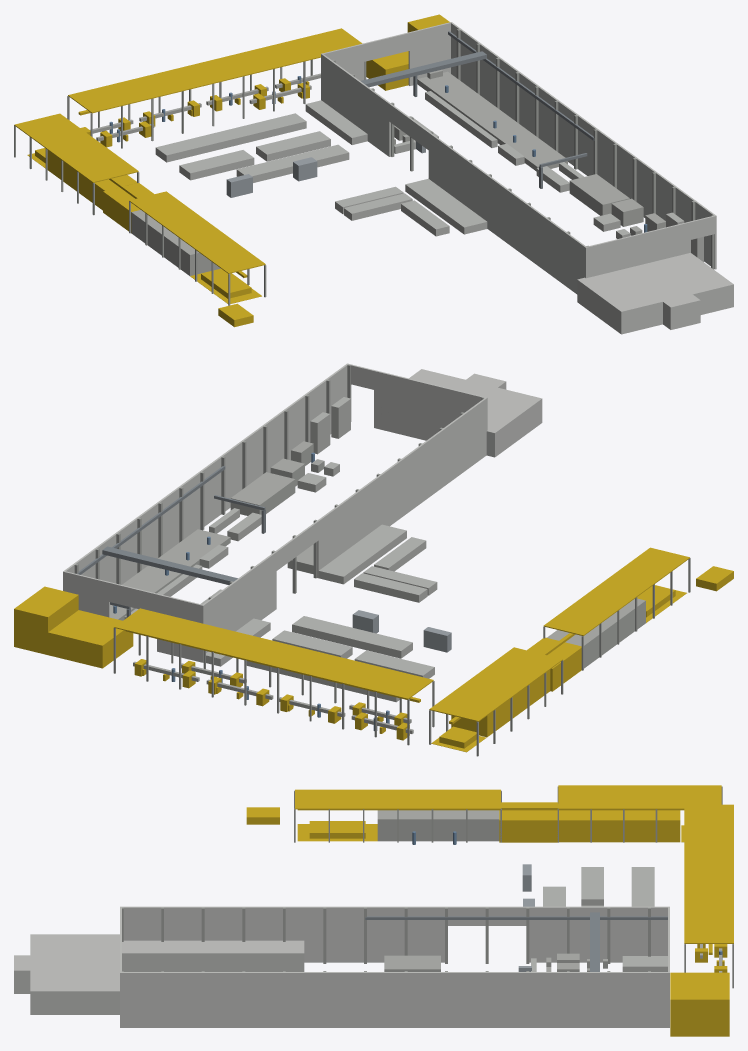
The model's file is comar_ALT4.glb.
3 views of the same model, one above another, from view 1: azimuth 30°, elevation 25°; view 2: azimuth 150°, elevation 25°; view 3: azimuth 270°, elevation 25° (orthographic). The views are drawn at different scales.
Visible parts, largest first — view 1: ALT4_N1, ALT4_TIN, ALT4_ADM, ALT4_CUBp, ALT4_CUBg, ALT4_A7, ALT4_PIN, ALT4_P3, ALT4_A10, ALT4_P4, ALT4_PGR, ALT4_A2 (+16 smaller); view 2: ALT4_N1, ALT4_TIN, ALT4_CUBp, ALT4_CUBg, ALT4_ADM, ALT4_DBU, ALT4_DPI, ALT4_A10, ALT4_A2, ALT4_PIN, ALT4_PGR, ALT4_P3 (+15 smaller); view 3: ALT4_N1, ALT4_ADM, ALT4_TIN, ALT4_CUBp, ALT4_CUBg, ALT4_GRA, ALT4_PIN, ALT4_DPI, ALT4_N2a, ALT4_SGR2, ALT4_N2b, ALT4_PGR (+11 smaller).
Boxes of the visible parts, x1=… form: ALT4_N1: x1=321, y1=22, x2=716, y2=294; ALT4_TIN: x1=67, y1=28, x2=366, y2=148; ALT4_ADM: x1=577, y1=253, x2=733, y2=334; ALT4_CUBp: x1=129, y1=191, x2=266, y2=305; ALT4_CUBg: x1=14, y1=113, x2=139, y2=215; ALT4_A7: x1=155, y1=113, x2=306, y2=162; ALT4_PIN: x1=131, y1=210, x2=220, y2=275; ALT4_P3: x1=475, y1=113, x2=567, y2=171; ALT4_A10: x1=405, y1=178, x2=487, y2=234; ALT4_P4: x1=417, y1=71, x2=504, y2=122; ALT4_PGR: x1=361, y1=31, x2=594, y2=140; ALT4_A2: x1=236, y1=144, x2=349, y2=182; ALT4_N1: x1=63, y1=363, x2=487, y2=662; ALT4_TIN: x1=113, y1=608, x2=434, y2=745; ALT4_CUBp: x1=543, y1=547, x2=690, y2=670; ALT4_CUBg: x1=429, y1=647, x2=563, y2=756; ALT4_ADM: x1=374, y1=369, x2=542, y2=457; ALT4_DBU: x1=48, y1=610, x2=133, y2=668; ALT4_DPI: x1=14, y1=586, x2=78, y2=654; ALT4_A10: x1=318, y1=524, x2=406, y2=584; ALT4_A2: x1=292, y1=616, x2=412, y2=658; ALT4_PIN: x1=547, y1=598, x2=645, y2=668; ALT4_PGR: x1=76, y1=466, x2=237, y2=584; ALT4_P3: x1=131, y1=529, x2=230, y2=588; ALT4_N1: x1=120, y1=906, x2=669, y2=1027; ALT4_ADM: x1=30, y1=934, x2=119, y2=1014; ALT4_TIN: x1=684, y1=804, x2=733, y2=988; ALT4_CUBp: x1=294, y1=789, x2=501, y2=842; ALT4_CUBg: x1=557, y1=785, x2=722, y2=842; ALT4_GRA: x1=559, y1=810, x2=680, y2=842; ALT4_PIN: x1=377, y1=810, x2=499, y2=841; ALT4_DPI: x1=670, y1=983, x2=729, y2=1036; ALT4_N2a: x1=122, y1=940, x2=201, y2=971; ALT4_SGR2: x1=499, y1=802, x2=557, y2=842; ALT4_N2b: x1=243, y1=940, x2=304, y2=971; ALT4_PGR: x1=365, y1=912, x2=667, y2=971.
Bounding box in the file's own units: 64.67 × 7.5 × 88.74.
